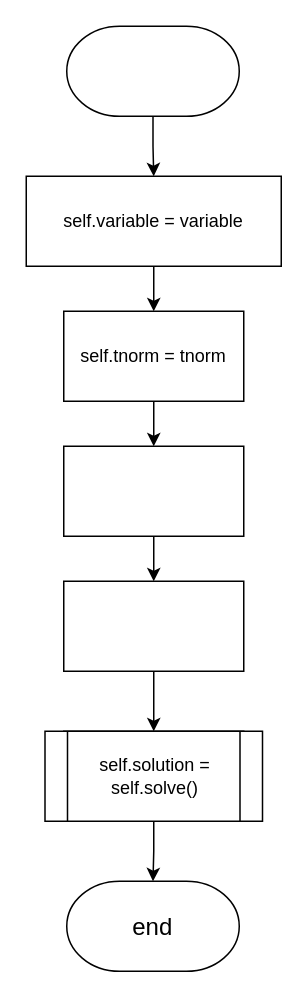
Some shapes in this 308 by 998 pixel diagram are drawn without their labels. Here are the shapes that lost their labels. From the top down, the centre of each, then its label:
At pixel 152 70: "begin".
At pixel 153 490: "self.y = y".
At pixel 153 625: "self.t = t".
